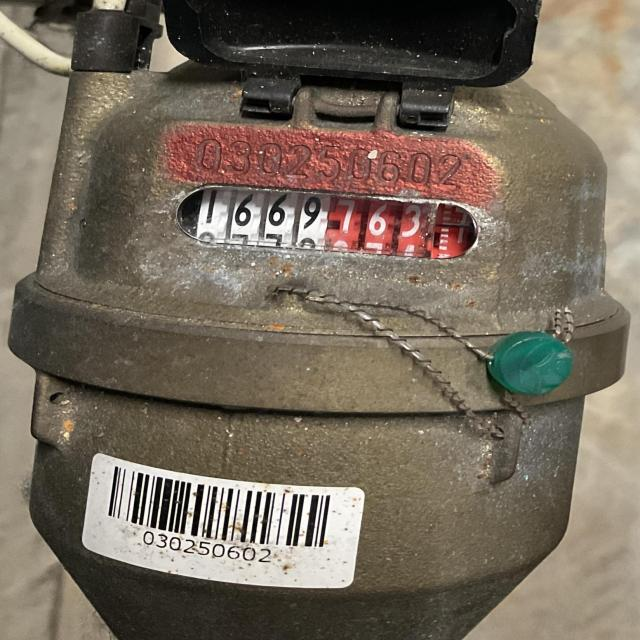gaz_meter: (76, 84, 571, 325)
indication: (189, 179, 462, 256)
